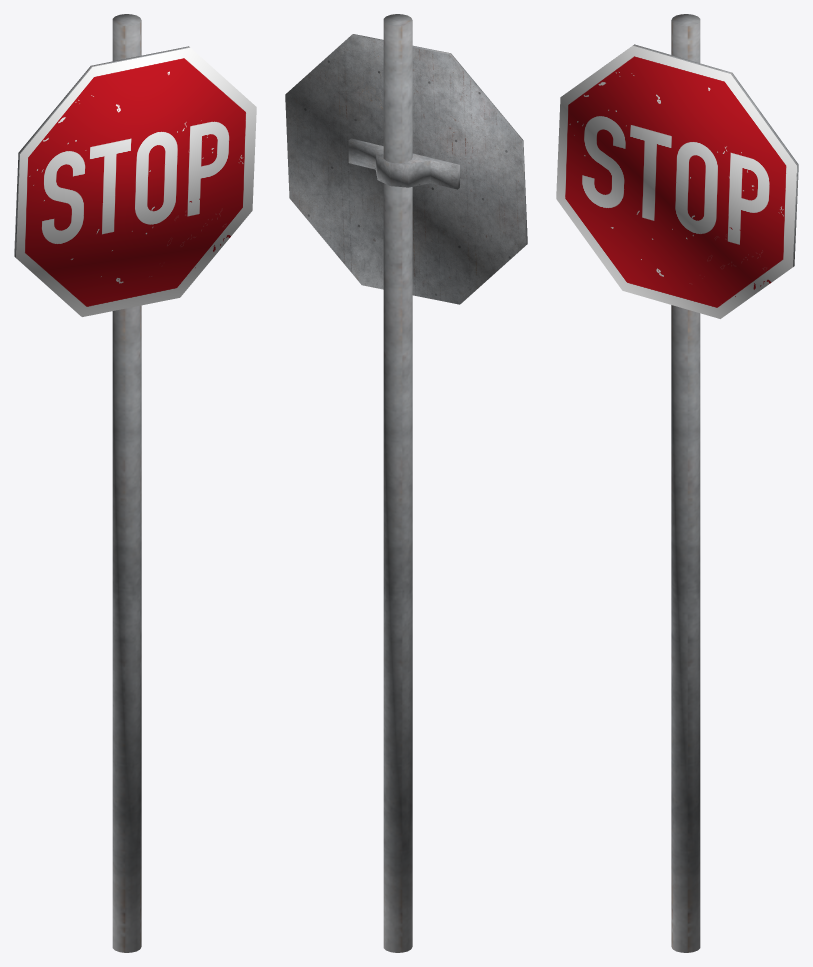
Rendered from StopSign.fbx.
3 views of the same model, side by side, from view 1: azimuth 30°, elevation 25°; view 2: azimuth 150°, elevation 25°; view 3: azimuth 330°, elevation 25° (orthographic).
Parts seen in each view (by area): view 1: StopSign; view 2: StopSign; view 3: StopSign.
Part boxes in pixels (x1=…): StopSign: x1=14, y1=14, x2=256, y2=952; StopSign: x1=285, y1=14, x2=527, y2=952; StopSign: x1=556, y1=14, x2=798, y2=952.
Bounding box in the file's own units: 188 × 691 × 23.43.
